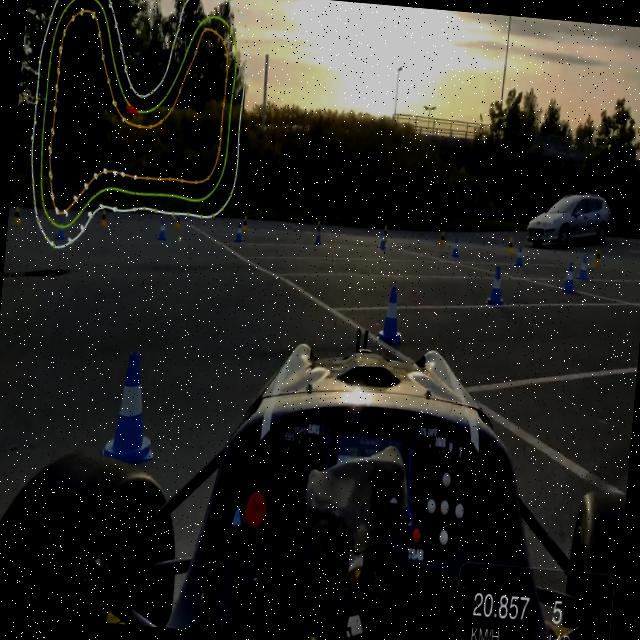blue_cone: (96, 348, 162, 468), (372, 276, 412, 346), (483, 260, 508, 308), (561, 259, 578, 297), (576, 254, 590, 282), (449, 235, 462, 259), (513, 244, 525, 270), (54, 214, 66, 240), (156, 217, 168, 241), (234, 220, 244, 242), (314, 226, 322, 246), (378, 232, 386, 249)
yellow_cone: (12, 204, 24, 228), (506, 234, 516, 256), (437, 228, 447, 249), (99, 208, 108, 228), (594, 248, 602, 266), (173, 214, 182, 230), (242, 215, 248, 232), (384, 226, 388, 242), (316, 220, 321, 226)
